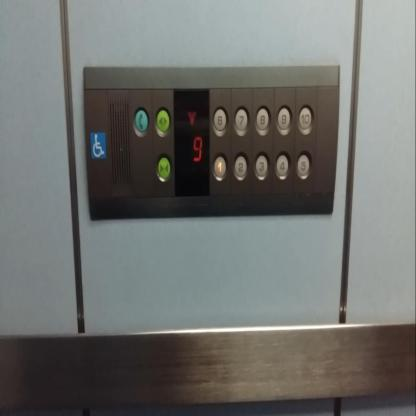1: (211, 151, 228, 181)
10: (297, 103, 314, 136)
2: (233, 151, 250, 181)
3: (253, 150, 270, 180)
4: (274, 150, 291, 179)
5: (295, 150, 312, 178)
6: (212, 105, 228, 137)
7: (233, 106, 250, 136)
8: (254, 104, 271, 135)
9: (275, 103, 293, 135)
CH: (90, 130, 107, 161)
call: (132, 106, 150, 138)
close: (155, 153, 173, 181)
led: (172, 86, 211, 198)
open: (154, 107, 172, 137)
